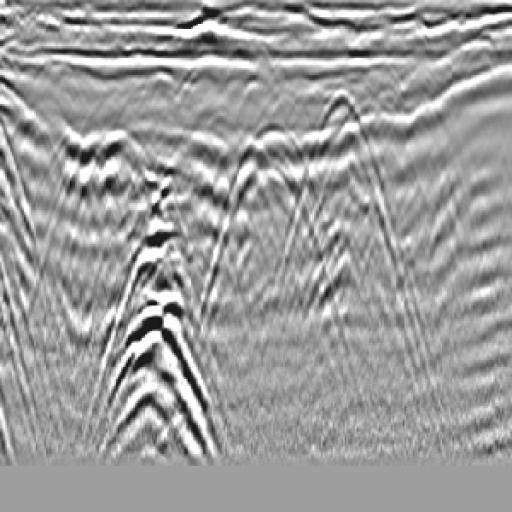metalic: (180, 108, 348, 352)
